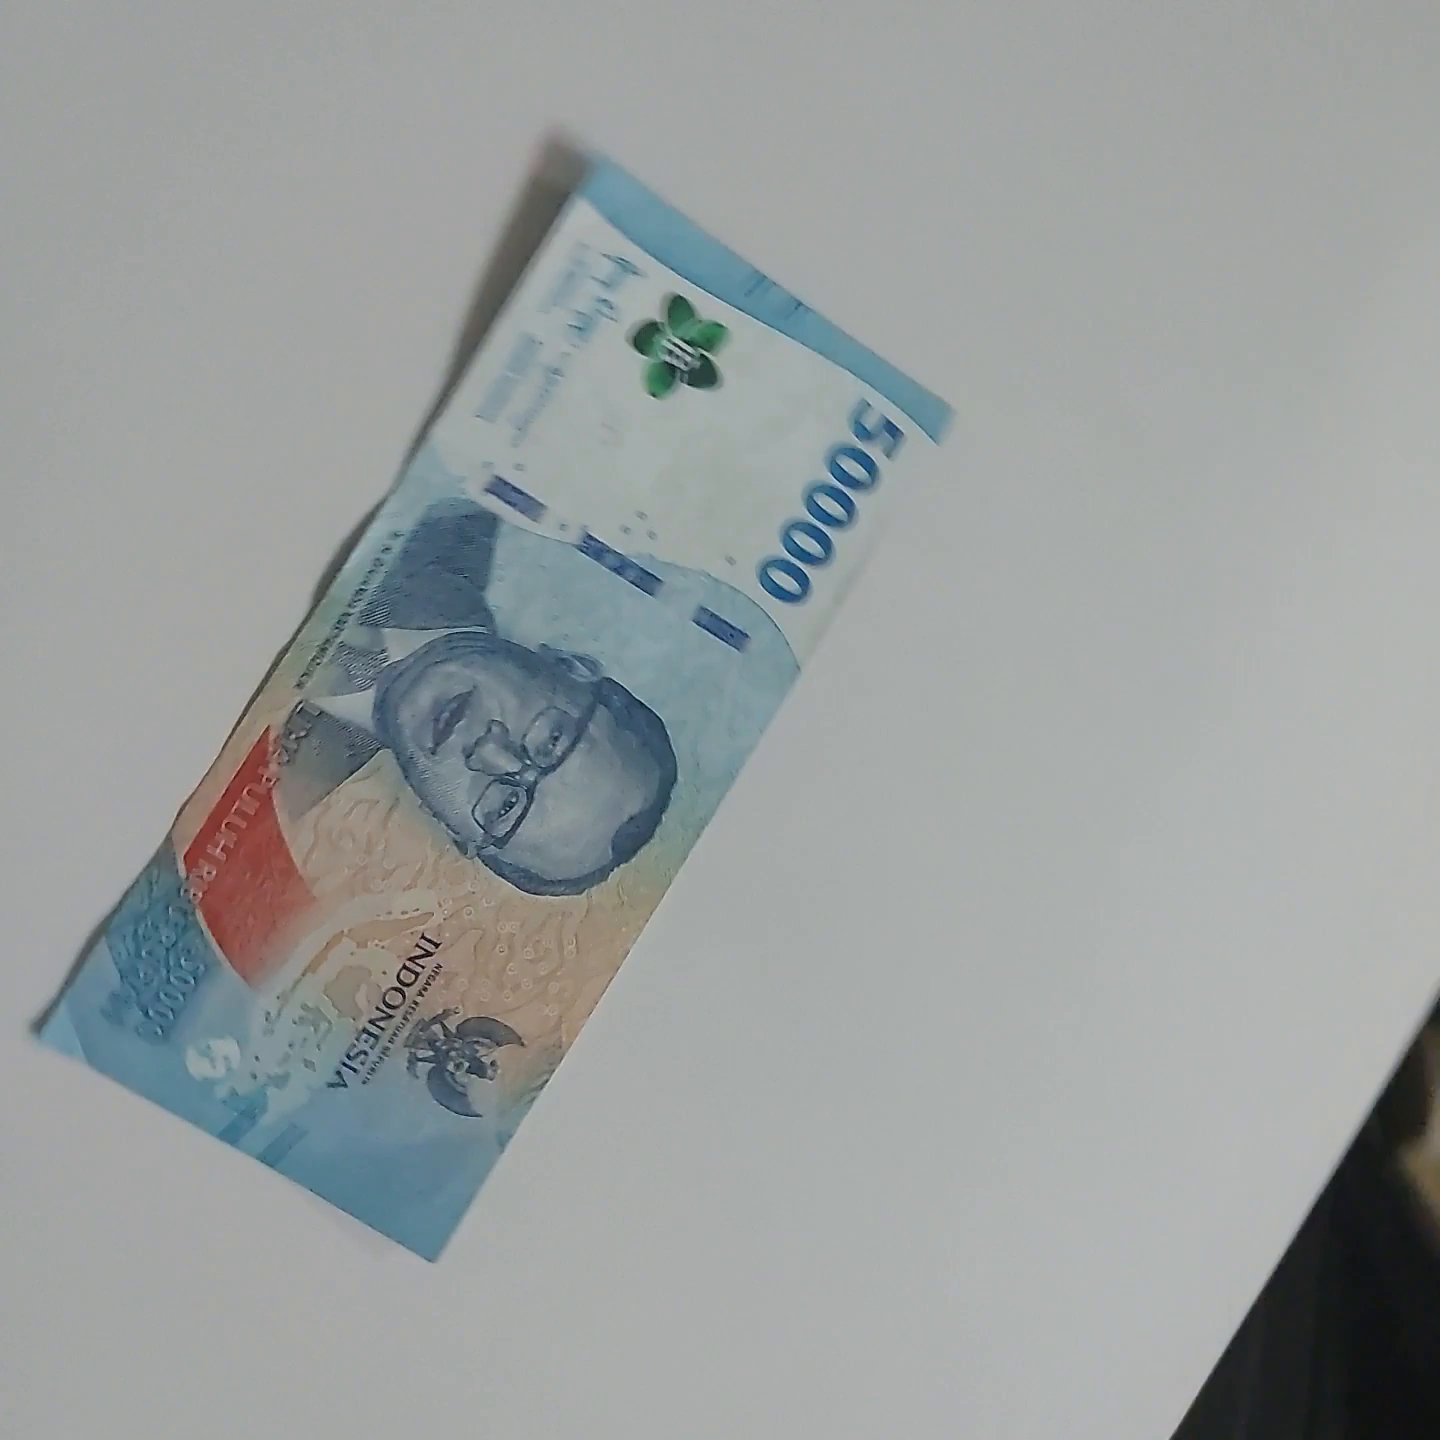50k: (597, 136, 1023, 1170)
